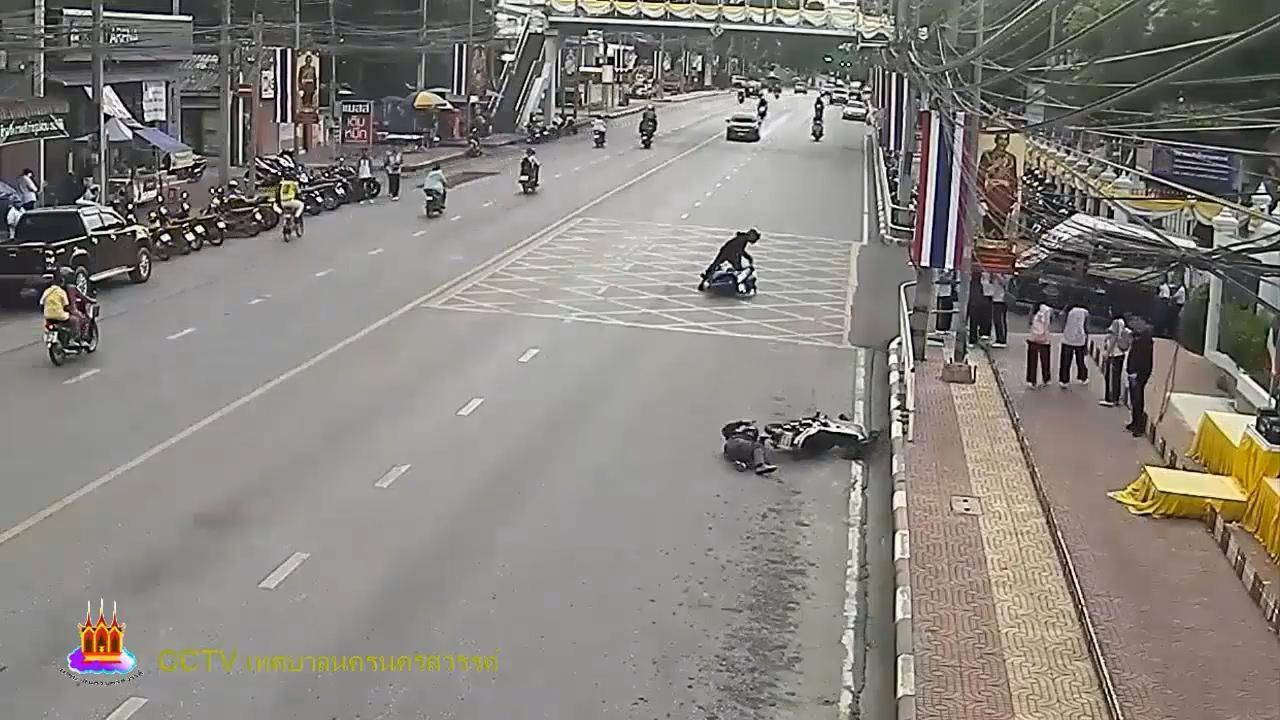accident: (717, 415, 779, 486)
